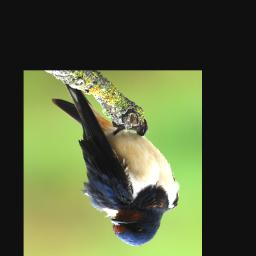Swallow: (51, 81, 181, 247)
